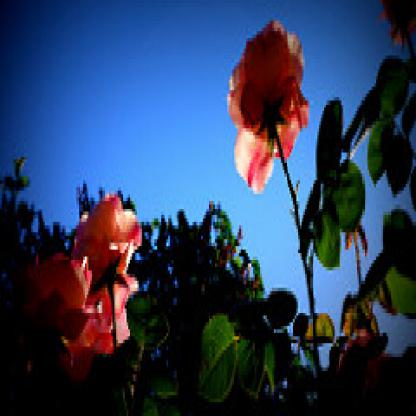Rose-Mawar: (25, 174, 138, 372), (227, 8, 310, 199)
